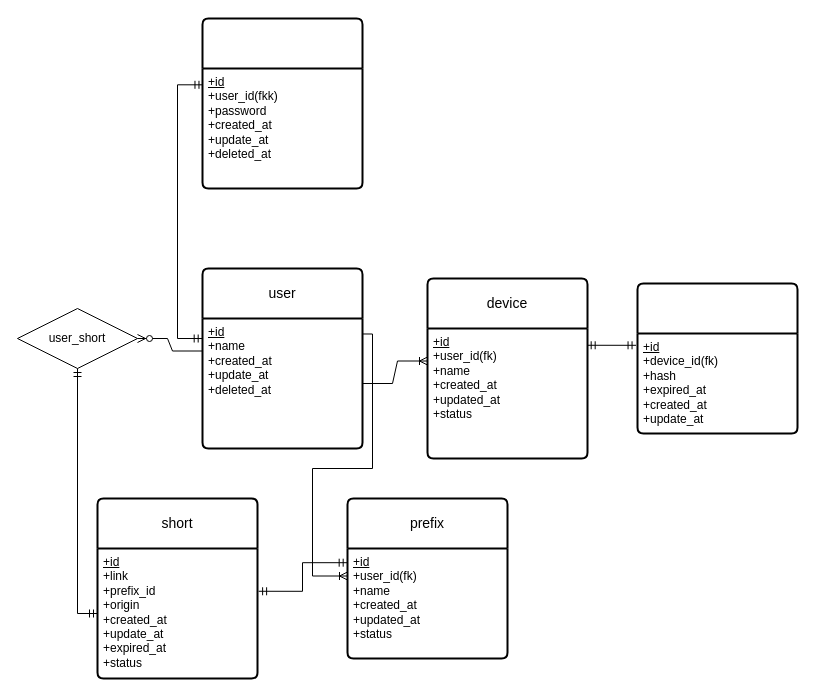
Image size: 816x696. Some labels were removed from this diagram. Each missing label, with the box of its shape:
auth: (201, 17, 363, 189)
session: (636, 282, 798, 434)
